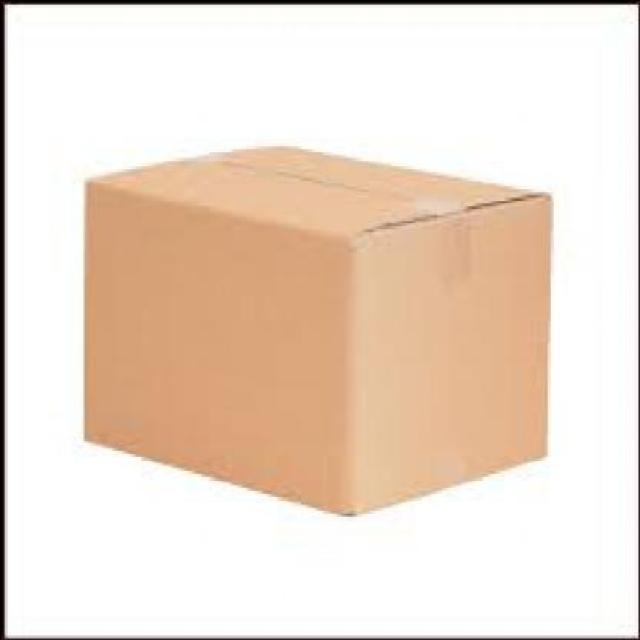CARDBOARD: (82, 139, 558, 510)
